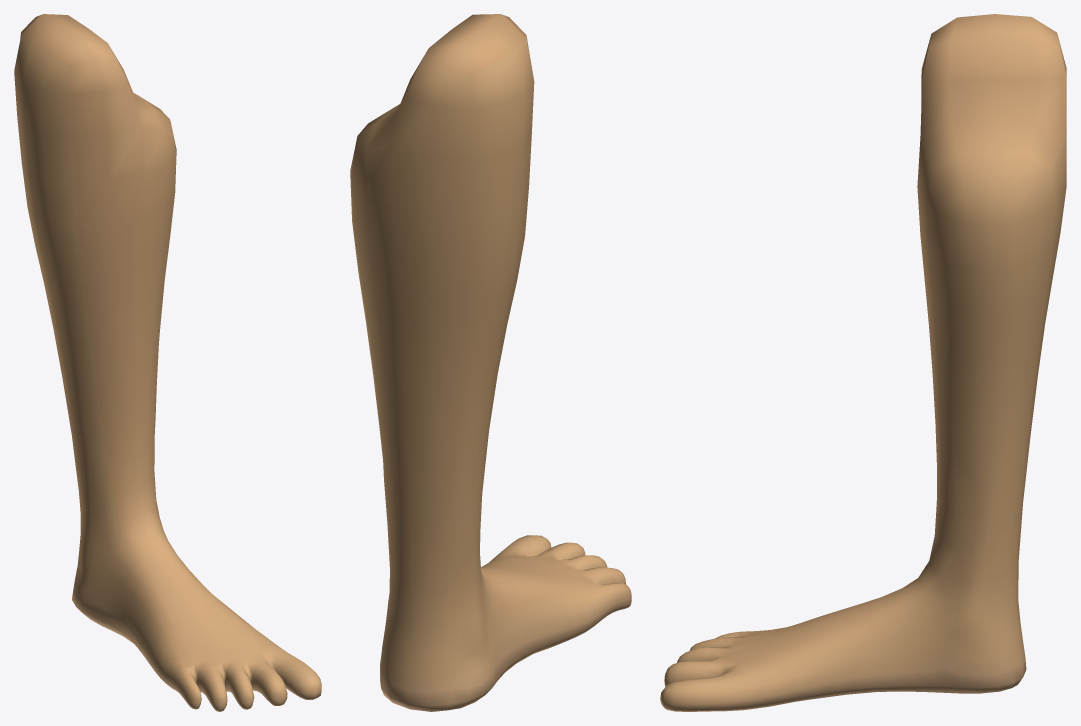
Rendered from Foot 3.fbx.
3 renders of one model, left to right at view 1: azimuth 30°, elevation 25°; view 2: azimuth 150°, elevation 25°; view 3: azimuth 270°, elevation 25°, orthographic. The views are drawn at different scales.
Parts seen in each view (by area): view 1: Cube.002; view 2: Cube.002; view 3: Cube.002.
Boxes of the visible parts, bbox=[...] form: Cube.002: bbox=[14, 14, 321, 711]; Cube.002: bbox=[350, 14, 631, 711]; Cube.002: bbox=[660, 14, 1066, 711].
Bounding box in the file's own units: 188 × 702 × 399.
